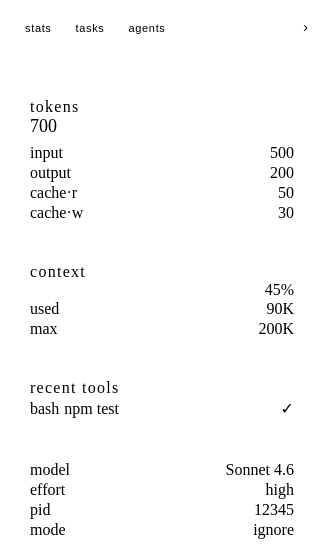
Scenario: MetaPanel › switches to agents tab
What coordinates should you click on to do the following:
click the button "agents"
I would click on:
 (147, 28)
Its box is [120,16,174,38].
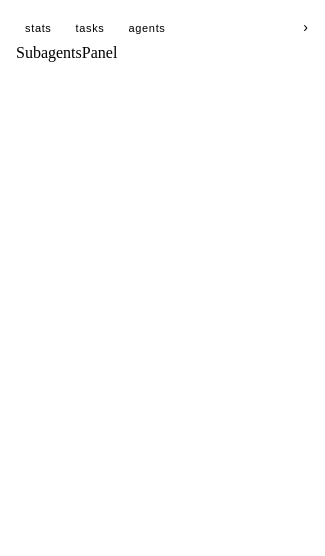
Check: the text "SubagentsPanel" is shown, box [16,44,117,61]
